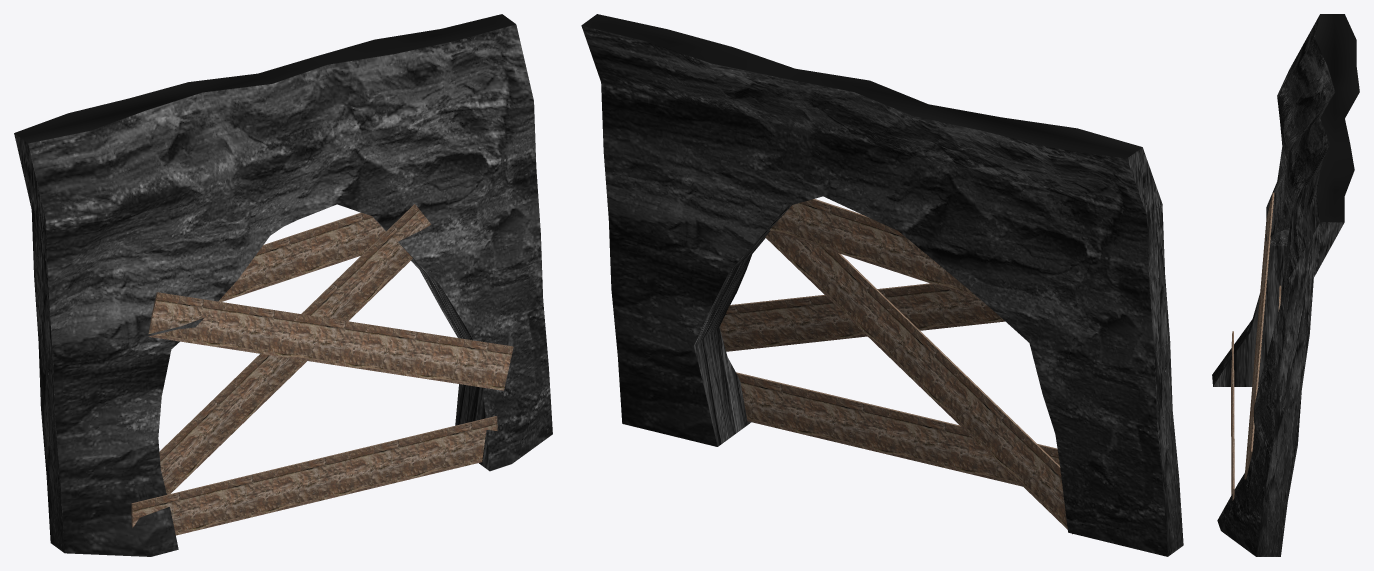
File: Höhle_eingang_barrikadiert.fbx
The picture shows the model from 3 angles, left to right: view 1: azimuth 30°, elevation 25°; view 2: azimuth 150°, elevation 25°; view 3: azimuth 270°, elevation 25°; orthographic projection. The views are drawn at different scales.
Parts seen in each view (by area): view 1: Box001, Box002, Box004, Box003, Box005; view 2: Box001, Box003, Box004, Box002, Box005; view 3: Box001, Box002, Box004.
Part boxes in pixels (<box>): Box001: <box>14,14,552,556</box>; Box002: <box>148,292,513,390</box>; Box004: <box>131,416,497,535</box>; Box003: <box>159,204,431,494</box>; Box005: <box>218,212,385,301</box>; Box001: <box>581,14,1183,556</box>; Box003: <box>765,231,1072,534</box>; Box004: <box>736,372,1059,486</box>; Box002: <box>719,283,1004,351</box>; Box005: <box>769,199,980,299</box>; Box001: <box>1212,14,1359,556</box>; Box002: <box>1244,192,1274,479</box>; Box004: <box>1231,331,1234,500</box>.
Size of the model in its own units: 20 by 15.06 by 6.
Materials: 2 (2 with a texture image).
